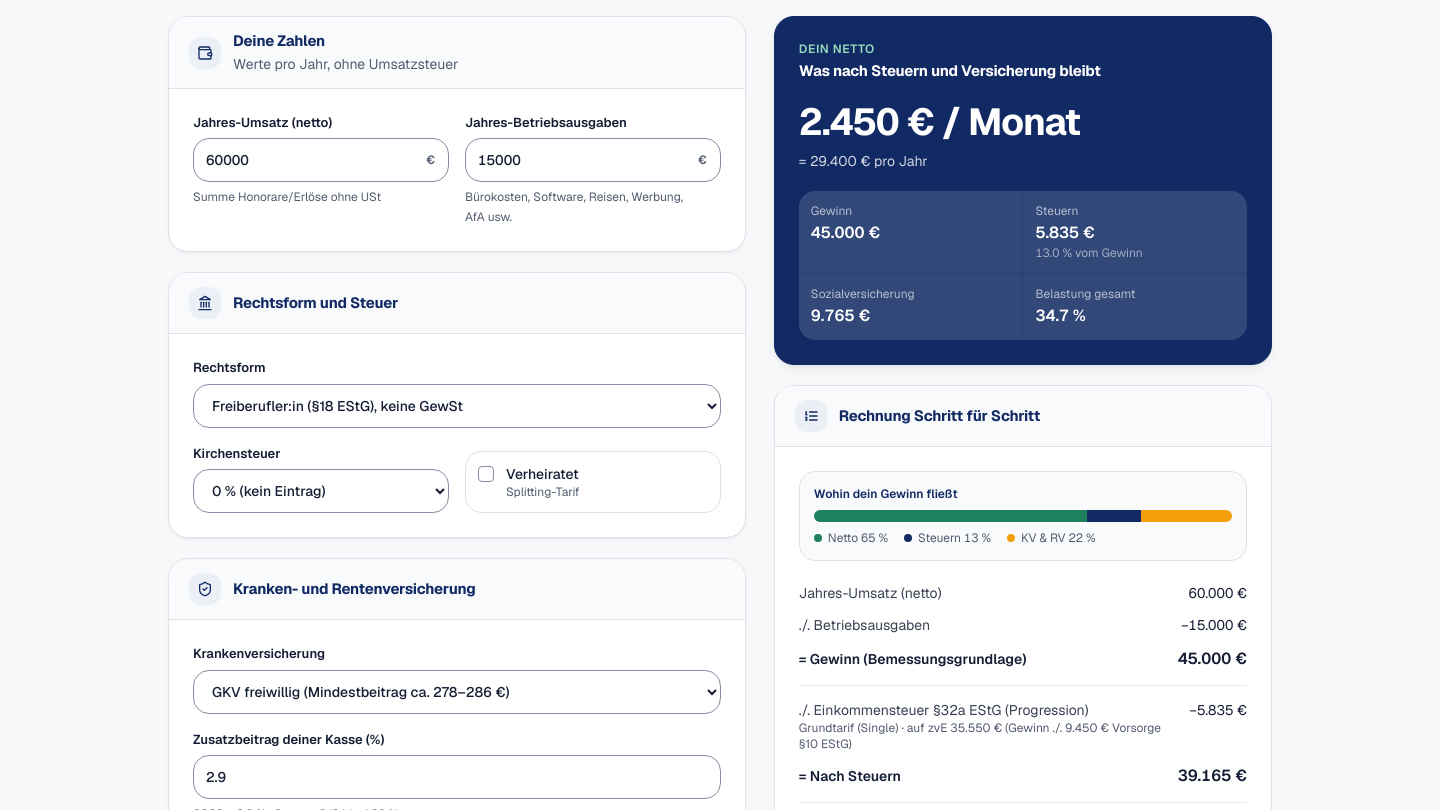
Test: BruttoNettoSolo — Berechnung › Bei Gewerbe mit Hebesatz 500% wird GewSt-Belastung gezeigt
(page scrolled)
Select "Einzel-Gewerbe, GewSt ab 24.500€ Gewinn" in the dropdown labelled "Rechtsform". click: (457, 406)
box: 193,384 -> 721,428
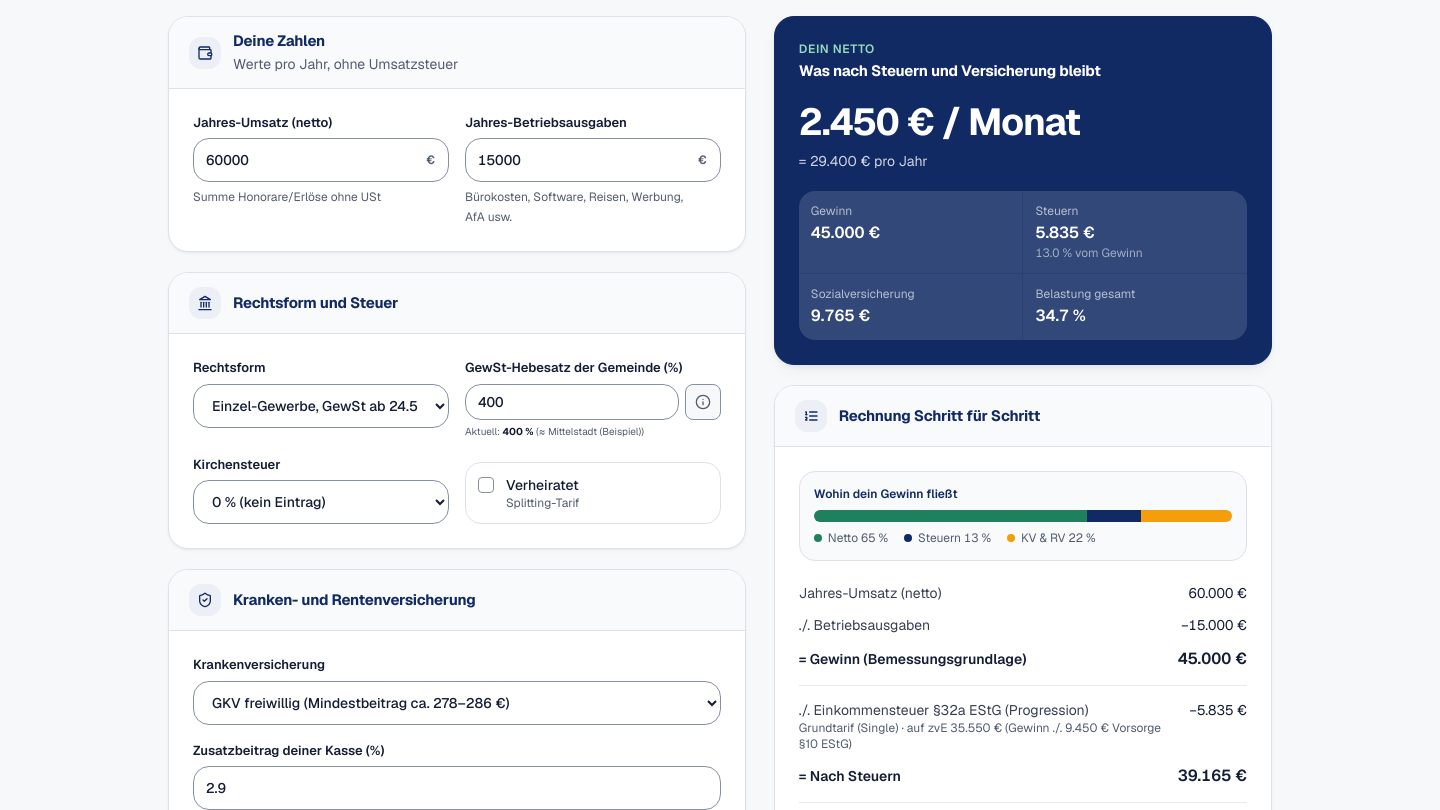
Replace the text in the 3rd number field with "500". click: (572, 402)
box: 465,384 -> 679,420
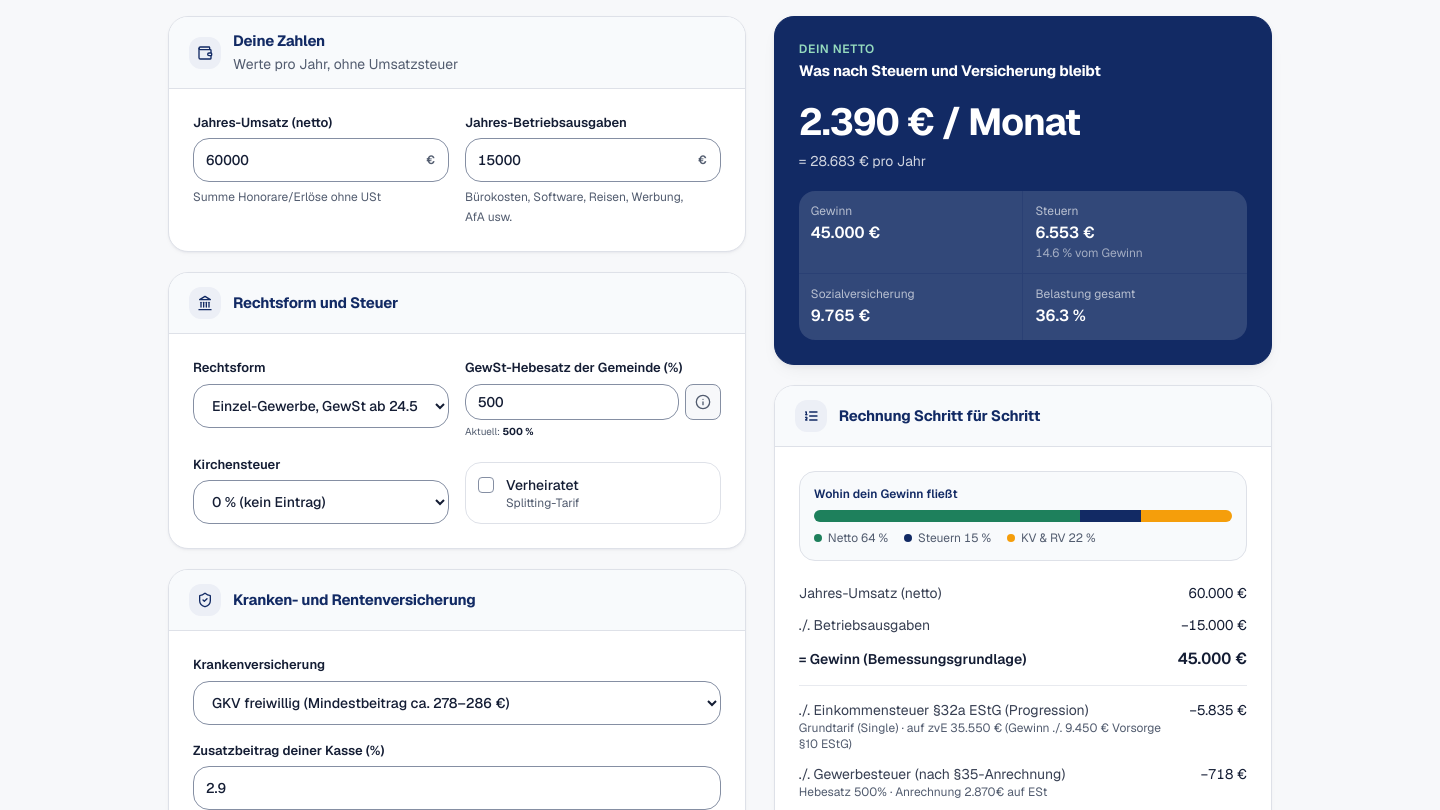
Expected: the text "Gewerbesteuer" is shown, 799,765 -> 1065,783
Expected: the text "§35-Anrechnung" is shown, 799,765 -> 1065,783
